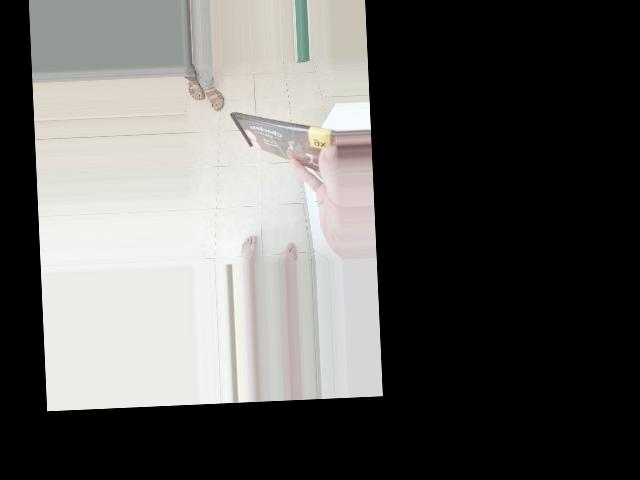chocolate: (219, 105, 292, 213)
